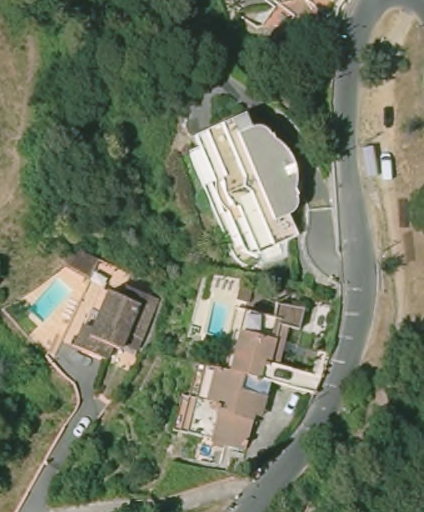pool: (32, 274, 77, 323), (202, 298, 237, 338)
